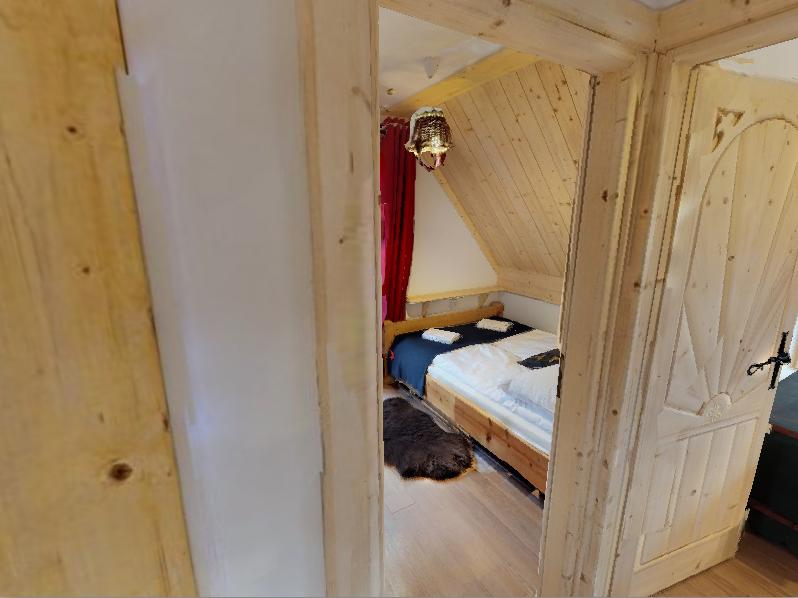bed: (372, 287, 579, 496)
door: (629, 62, 798, 558)
door-frame: (271, 0, 646, 598)
